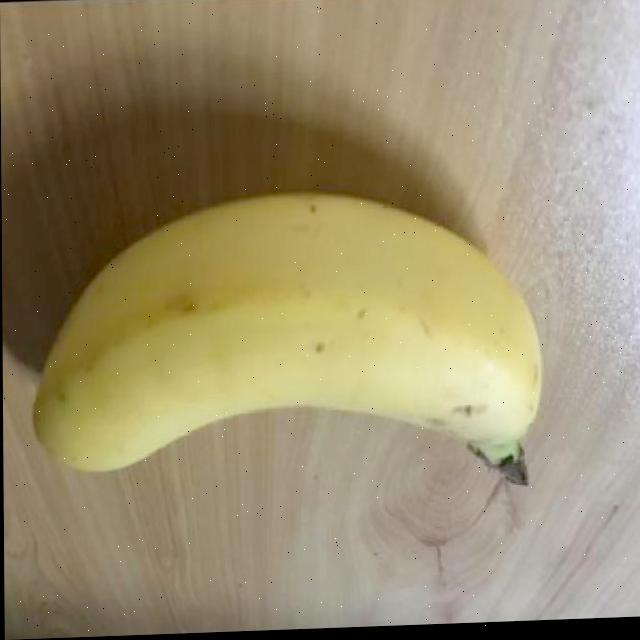banana: (29, 171, 553, 513)
